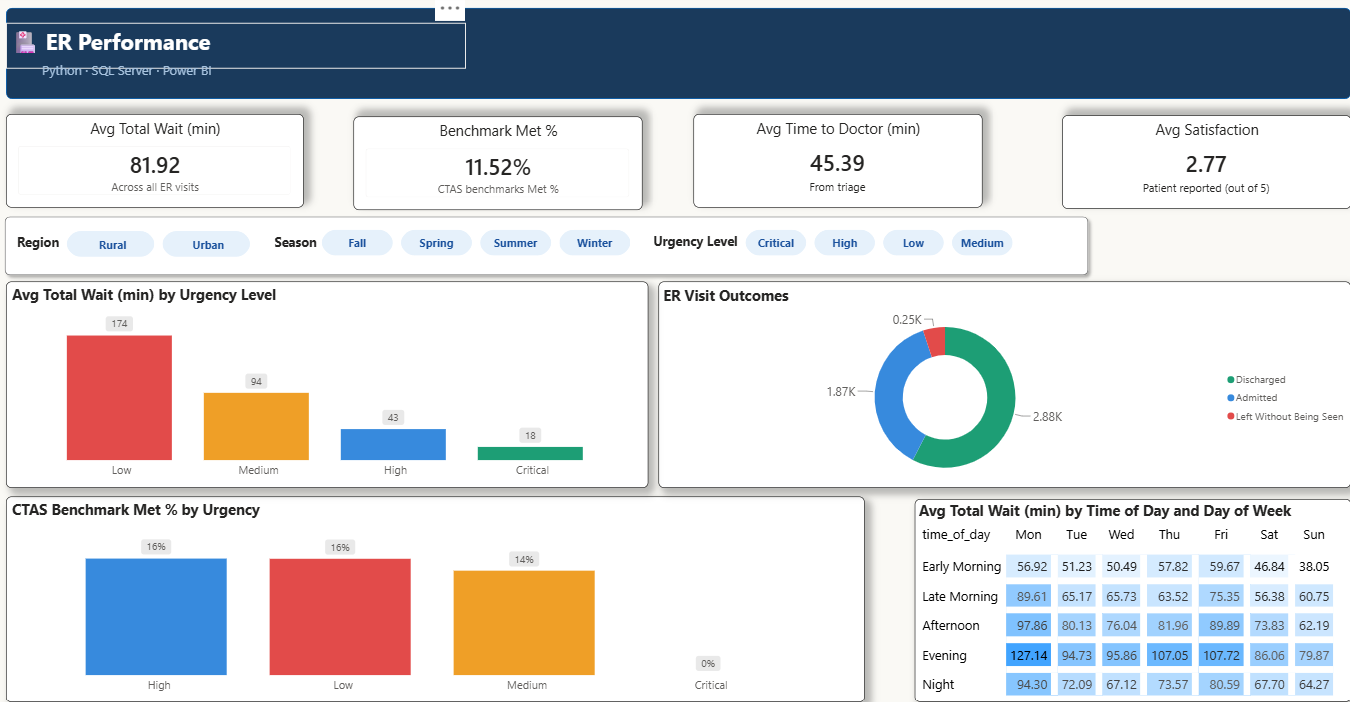

What the dashboard file says about the page in this screenshot:
{"tool":"powerbi","page":{"name":"ER Performance","canvas":[2000,1060],"ordinal":2},"visuals":[{"type":"shape","box":[10.9,314.3,1593,103.6],"z":0},{"type":"shape","box":[21.8,20,1954.9,132.6],"z":1000},{"type":"textbox","box":[21.8,41.7,668.6,67.2],"z":2000},{"type":"advancedSlicerVisual","fields":{"Values":["fact_er_visits.urgency_level"]},"box":[1092,337.9,401.5,47.2],"z":3000},{"type":"textbox","box":[69,92.5,668.6,34.5],"z":4000},{"type":"textbox","box":[957.6,341.6,134.4,45.4],"z":5000},{"type":"cardVisual","title":"Avg Total Wait","fields":{"Data":["_Measures.Avg Wait Time"]},"box":[21.8,174.4,432.4,136.3],"z":6000},{"type":"cardVisual","title":"Avg Satisfaction","fields":{"Data":["_Measures.Avg Satisfaction"]},"box":[1557.1,176.2,419.7,136.3],"z":7000},{"type":"cardVisual","title":"Avg Time to Doctor","fields":{"Data":["_Measures.Avg Time To Doctor"]},"box":[1021.1,174.4,419.7,136.3],"z":8000},{"type":"cardVisual","title":"Avg Billing(CAD)","fields":{"Data":["_Measures.Pct Benchmark Met"]},"box":[526.9,178.1,419.7,136.3],"z":9000},{"type":"textbox","box":[32.4,343.4,78.1,36.3],"z":10000},{"type":"advancedSlicerVisual","fields":{"Values":["dim_region.region_name"]},"box":[105.1,339.8,278,47.2],"z":11000},{"type":"advancedSlicerVisual","fields":{"Values":["fact_er_visits.season"]},"box":[475.7,337.9,461.5,47.2],"z":12000},{"type":"textbox","box":[407.4,344.1,98.1,36.3],"z":13000},{"type":"columnChart","title":"Benchmark Met % by Urgency","fields":{"Category":["fact_er_visits.urgency_level"],"Y":["_Measures.Pct Benchmark Met"]},"box":[21.8,730.4,933.9,299.8],"z":14000},{"type":"donutChart","title":"Patient Outcomes","fields":{"Category":["fact_er_visits.patient_outcome"],"Y":["CountNonNull(fact_er_visits.visit_id)"]},"box":[970.2,417.9,628.6,299.8],"z":15000},{"type":"pivotTable","title":"Avg Wait-Time of Day vs Day of Week","fields":{"Rows":["fact_er_visits.time_of_day"],"Columns":["fact_er_visits.day_of_week"],"Values":["_Measures.Avg Wait Time"]},"box":[970.2,730.4,628.6,296.1],"z":16000},{"type":"columnChart","title":" Avg Wait by Urgency Level ","fields":{"Category":["fact_er_visits.urgency_level"],"Y":["_Measures.Avg Wait Time"]},"box":[21.8,417.9,933.9,299.8],"z":17000},{"type":"textbox","box":[1615.2,328.9,361.6,701.3],"z":18000}]}

Visuals, with their boxes in screenshot pixels (x1, y1, x2, y2), scaled from the page's 2000x1060 canvas onto the 1350x702 screenshot:
shape: bbox=[7, 208, 1083, 277]
shape: bbox=[15, 13, 1334, 101]
textbox: bbox=[15, 28, 466, 72]
advancedSlicerVisual - fact_er_visits.urgency_level: bbox=[737, 224, 1008, 255]
textbox: bbox=[47, 61, 498, 84]
textbox: bbox=[646, 226, 737, 256]
"Avg Total Wait" cardVisual: bbox=[15, 115, 307, 206]
"Avg Satisfaction" cardVisual: bbox=[1051, 117, 1334, 207]
"Avg Time to Doctor" cardVisual: bbox=[689, 115, 973, 206]
"Avg Billing(CAD)" cardVisual: bbox=[356, 118, 639, 208]
textbox: bbox=[22, 227, 75, 251]
advancedSlicerVisual - dim_region.region_name: bbox=[71, 225, 259, 256]
advancedSlicerVisual - fact_er_visits.season: bbox=[321, 224, 633, 255]
textbox: bbox=[275, 228, 341, 252]
"Benchmark Met % by Urgency" columnChart: bbox=[15, 484, 645, 682]
"Patient Outcomes" donutChart: bbox=[655, 277, 1079, 475]
"Avg Wait-Time of Day vs Day of Week" pivotTable: bbox=[655, 484, 1079, 680]
" Avg Wait by Urgency Level " columnChart: bbox=[15, 277, 645, 475]
textbox: bbox=[1090, 218, 1334, 682]
